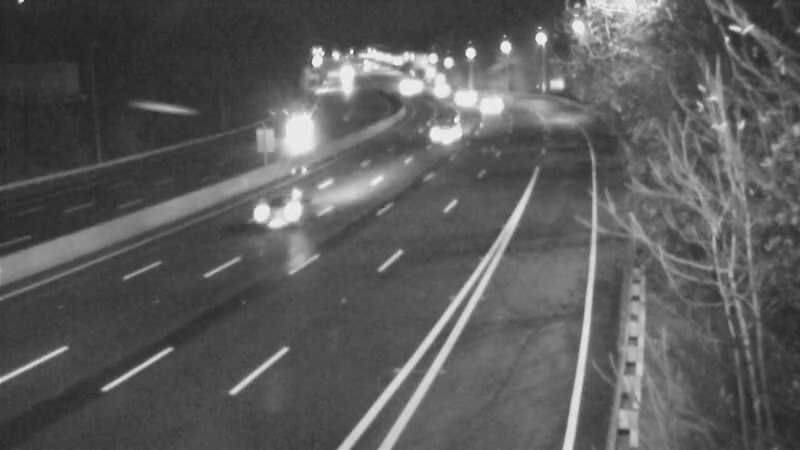vehicle: (229, 179, 309, 259), (414, 66, 464, 116), (435, 71, 485, 121), (460, 73, 510, 123), (418, 106, 468, 156), (271, 112, 321, 162)
